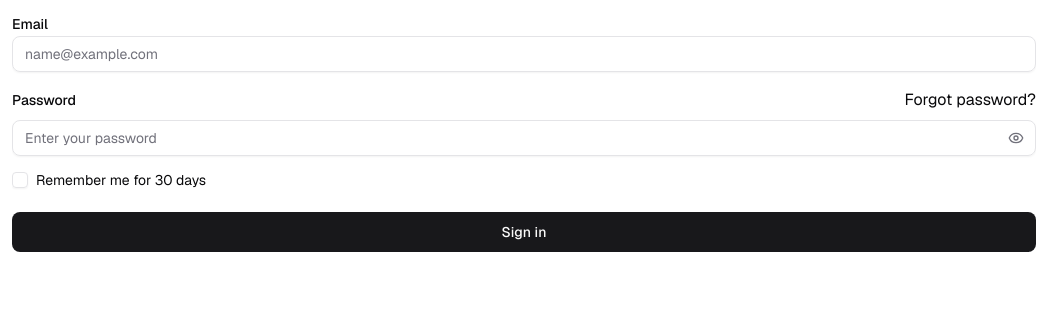
Test case: LoginFormModern › Form Validation › should show error when email format is invalid
The image size is (1048, 320).
Type "invalid-email" into the field labelled "Email" at x=524, y=54, box [12,36,1036,72]
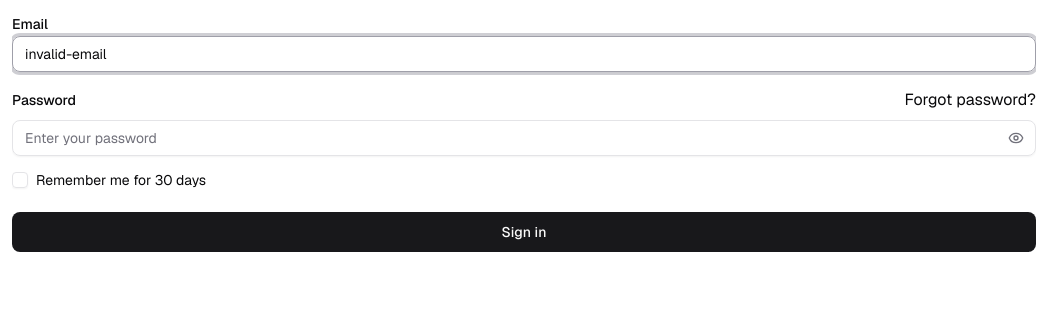
Click the button "Sign in" at x=524, y=232, box [12,212,1036,252]
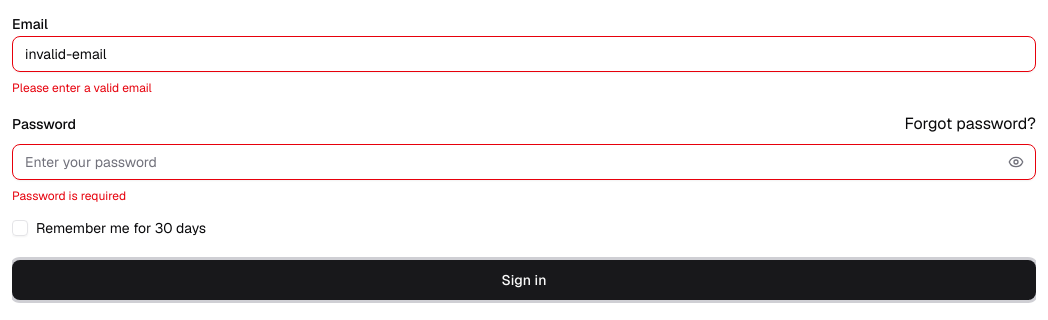
Check: the text "Please enter a valid email" is shown, box [12,80,152,96]
